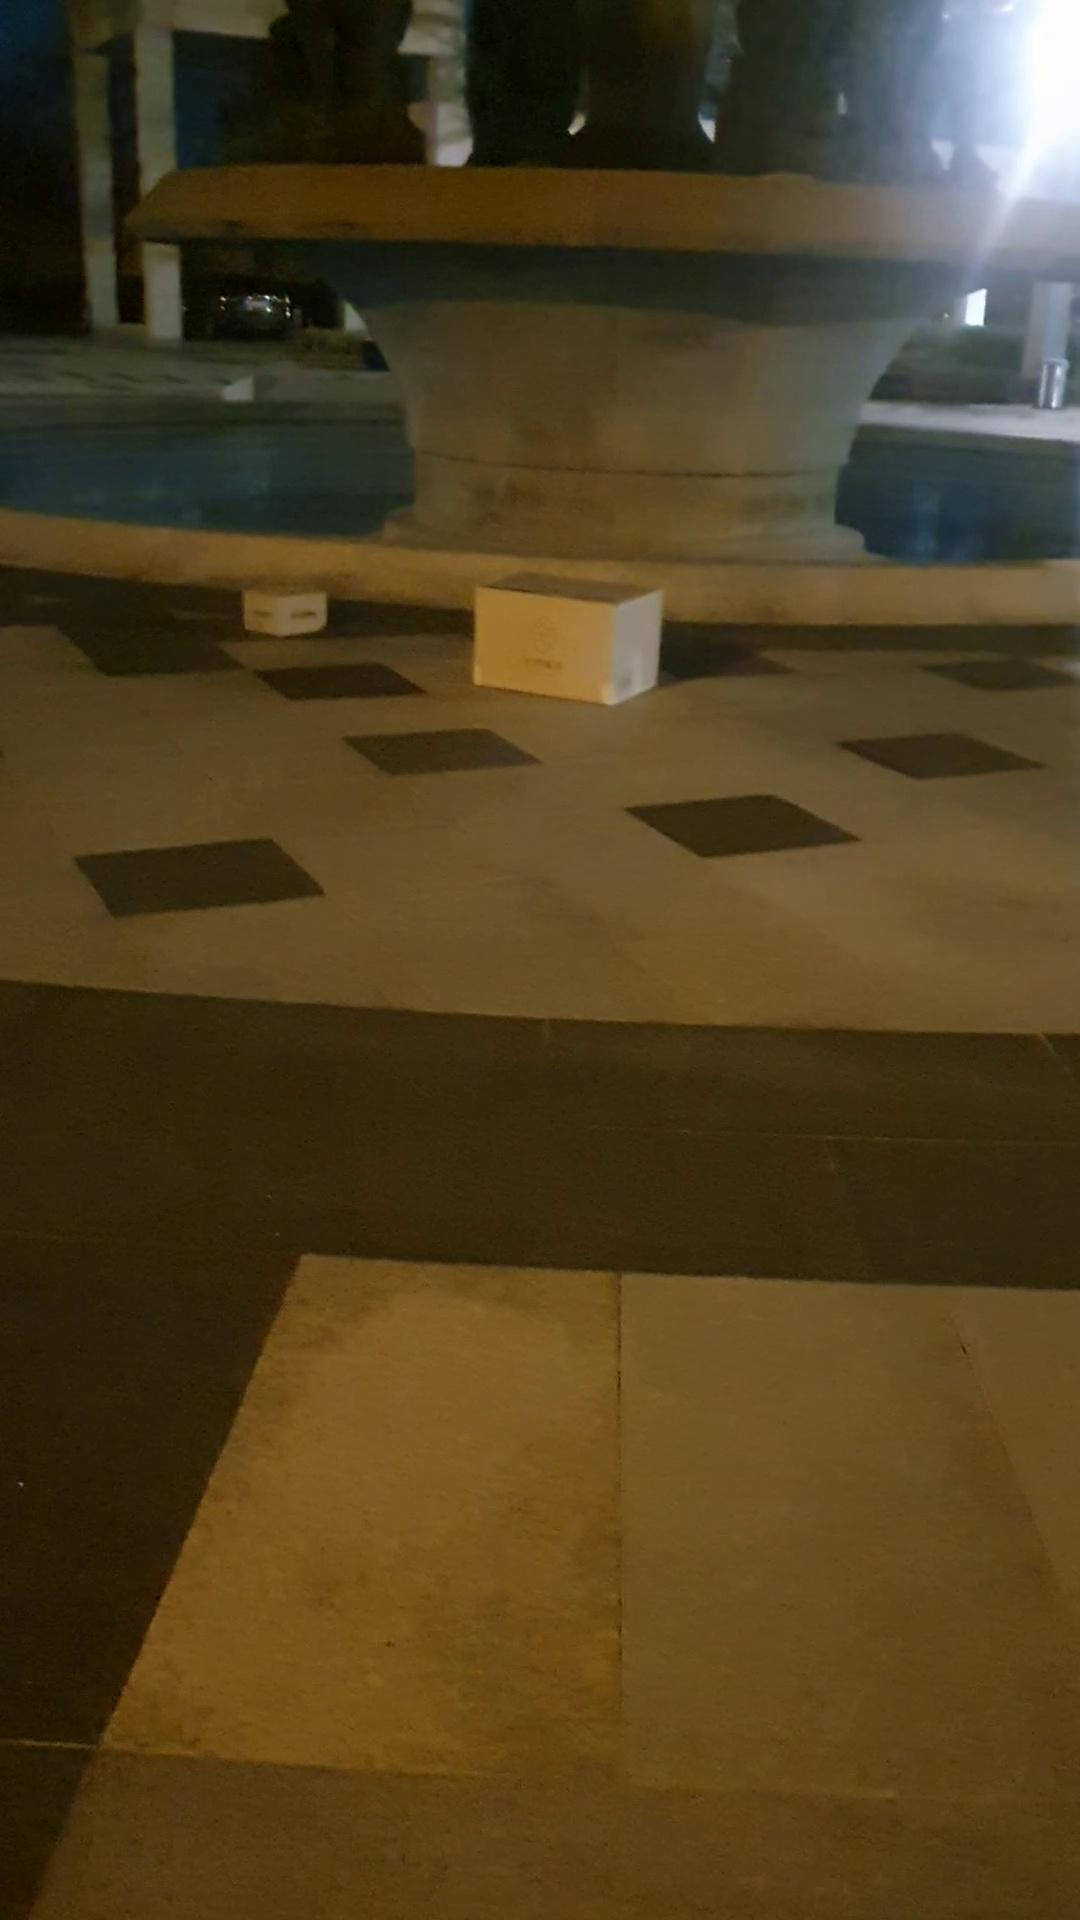Box: (473, 553, 712, 733), (214, 553, 365, 683)
